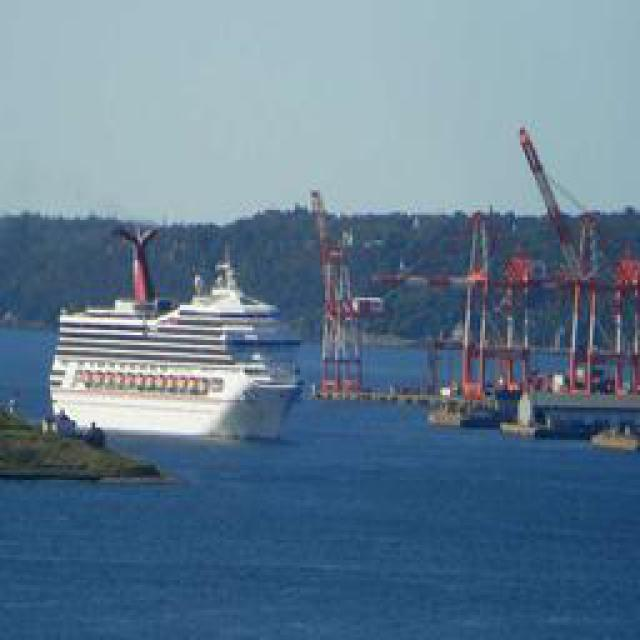Ship: (45, 230, 316, 456)
